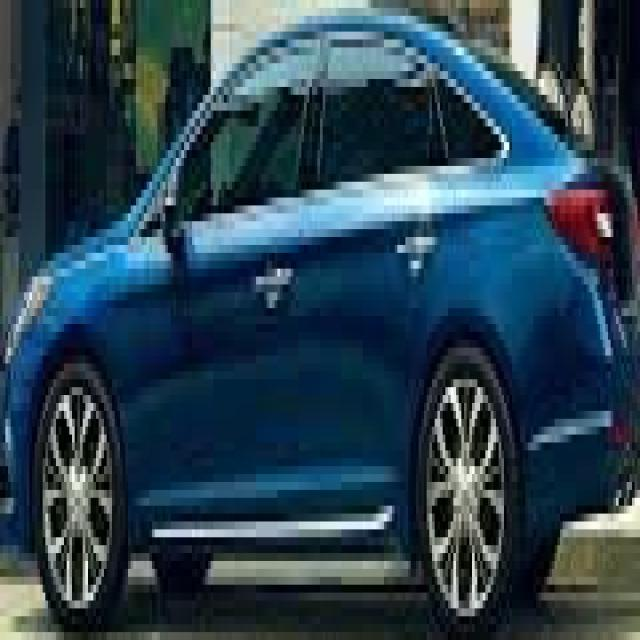blue: (2, 15, 640, 630)
